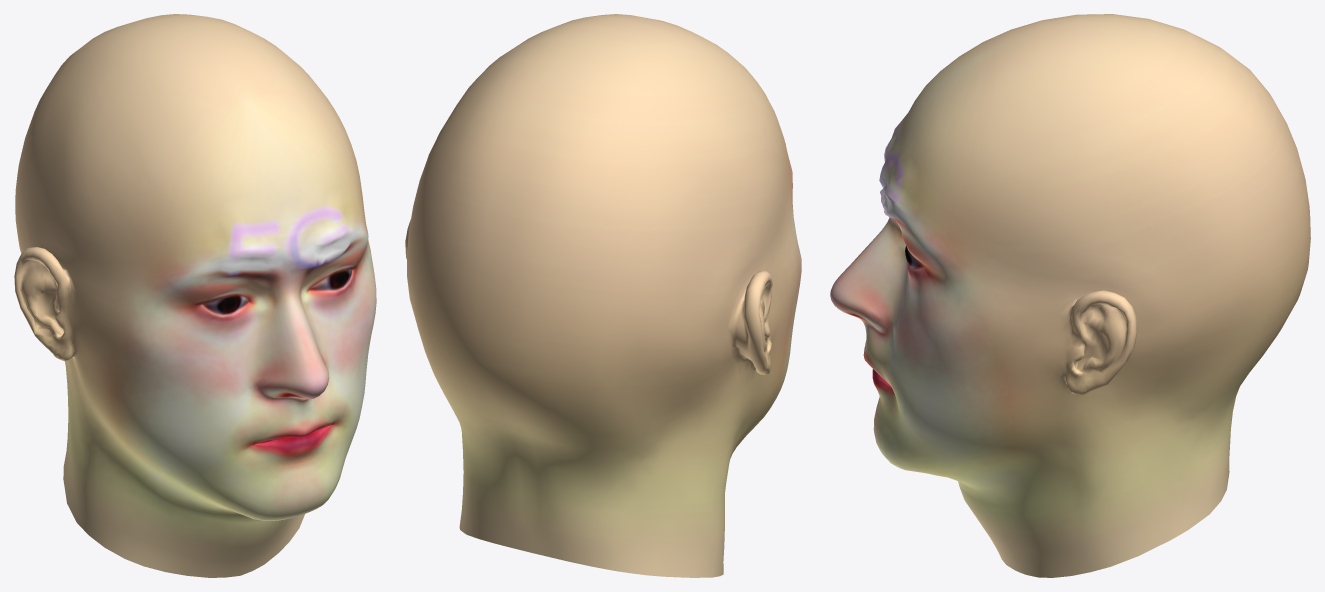
File: avg_anyrace_male_20.obj
The picture shows the model from 3 angles, left to right: view 1: azimuth 30°, elevation 25°; view 2: azimuth 150°, elevation 25°; view 3: azimuth 270°, elevation 25°; orthographic projection. The views are drawn at different scales.
Parts seen in each view (by area): view 1: HeadHires; view 2: HeadHires; view 3: HeadHires.
Boxes of the visible parts, left/top/right/bottom form: HeadHires: left=14, top=14, right=376, bottom=577; HeadHires: left=405, top=14, right=801, bottom=577; HeadHires: left=830, top=14, right=1310, bottom=577.
Size of the model in its own units: 191 by 283 by 235.
3 materials, 3 textured.
